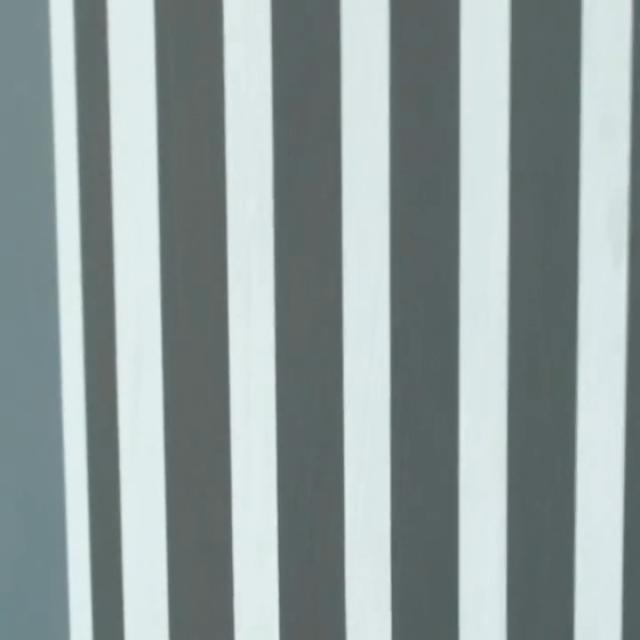left: (49, 0, 92, 639)
